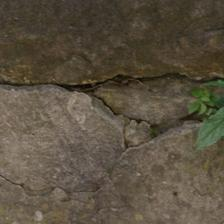Crack: (5, 63, 224, 95), (82, 93, 162, 153)
